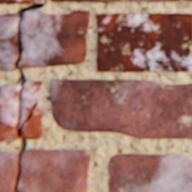brick: (51, 78, 191, 137), (97, 13, 191, 71), (109, 152, 191, 191), (52, 0, 191, 1), (0, 0, 45, 3)
broken_brick: (20, 10, 90, 67), (19, 148, 91, 191), (20, 80, 43, 138), (0, 13, 19, 70), (0, 82, 21, 125), (0, 151, 18, 191), (0, 122, 18, 140)
crack: (0, 0, 46, 191)
